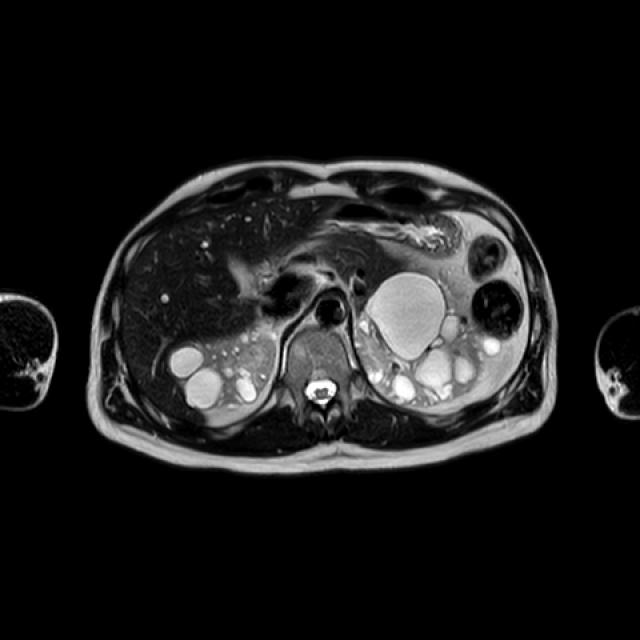sag: (169, 314, 279, 413)
sol: (351, 270, 503, 408)
